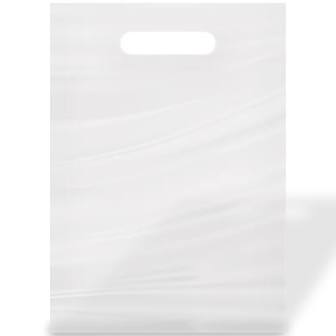PlasticBag: (41, 1, 297, 331)
